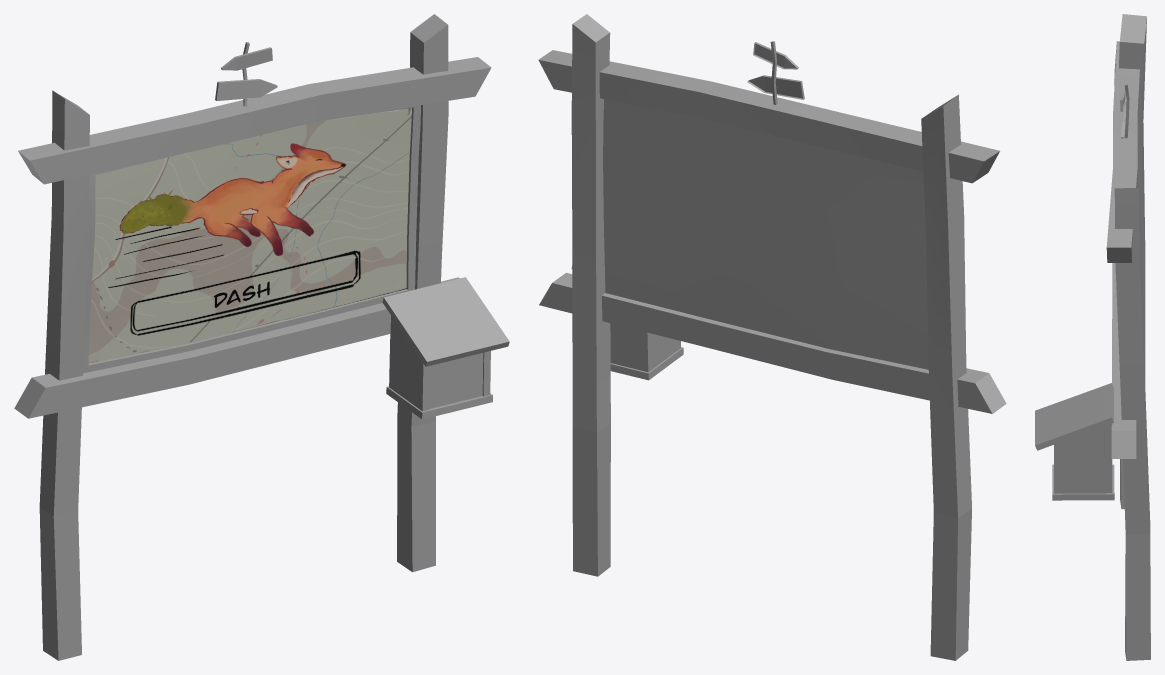
The model's file is Post_small_dash.fbx.
The picture shows the model from 3 angles, left to right: view 1: azimuth 30°, elevation 25°; view 2: azimuth 150°, elevation 25°; view 3: azimuth 270°, elevation 25°; orthographic projection. The views are drawn at different scales.
Visible parts, largest first — view 1: Post_Small; view 2: Post_Small; view 3: Post_Small.
Part boxes in pixels (<box>): Post_Small: <box>14,14,509,660</box>; Post_Small: <box>538,14,1006,660</box>; Post_Small: <box>1035,14,1150,660</box>.
Bounding box in the file's own units: 4.77 × 5.63 × 1.19.
Materials: 2 (1 with a texture image).
